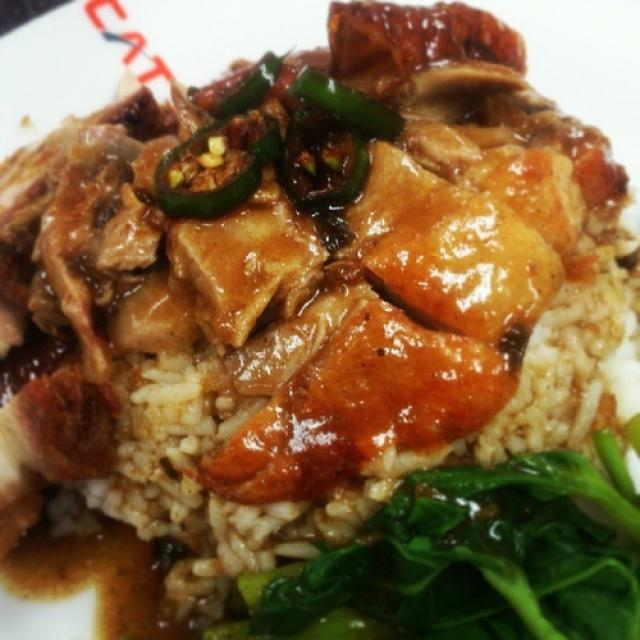米饭主食: (13, 10, 627, 602)
